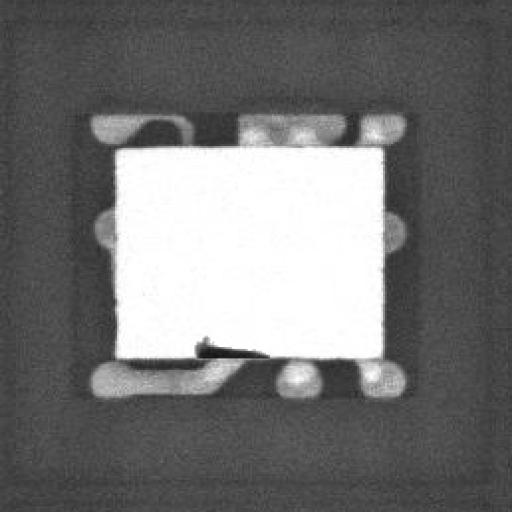DIE_BROKEN: (186, 332, 270, 360)
